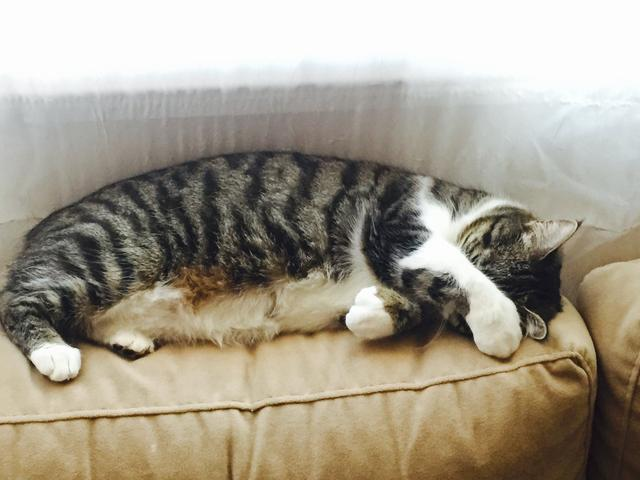playdoh: (1, 150, 581, 384)
